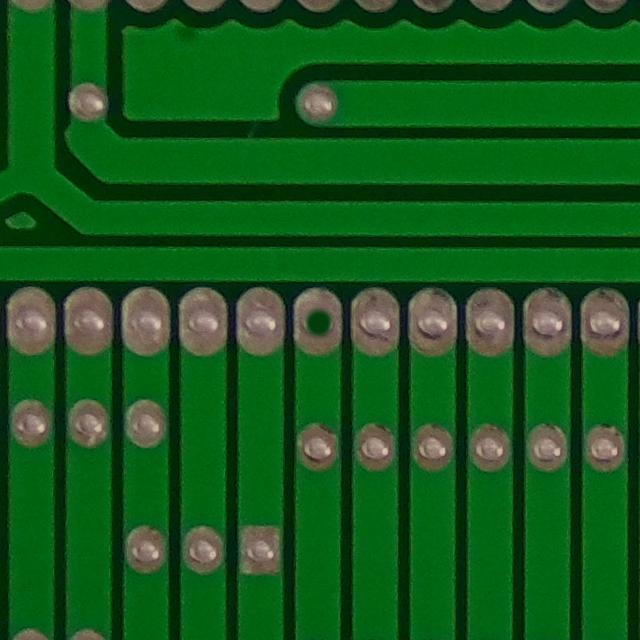missing_hole: (294, 286, 347, 355)
